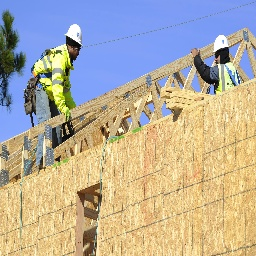helmet: (66, 22, 82, 45), (214, 34, 230, 51)
person: (29, 21, 84, 173), (191, 33, 240, 93)
vest: (33, 44, 70, 100), (215, 61, 241, 94)
